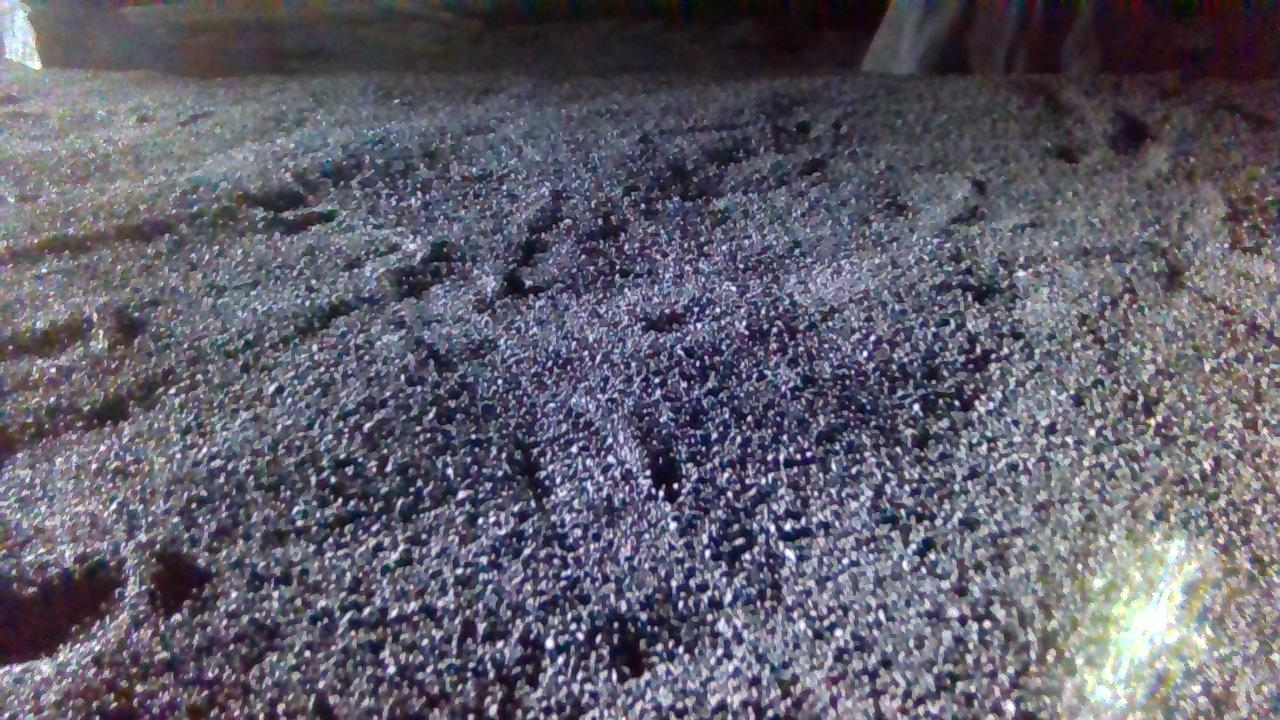rock: (863, 0, 1104, 74), (0, 0, 38, 67)
